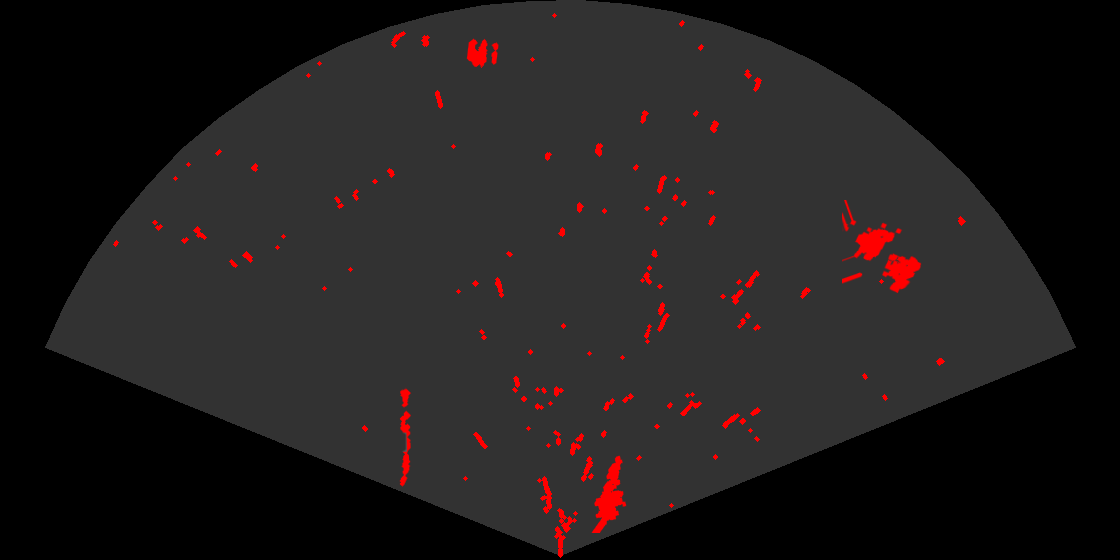ball: (465, 37, 500, 69)
cage: (842, 200, 923, 295)
chain: (398, 387, 413, 488)
frogman: (590, 454, 628, 533)
